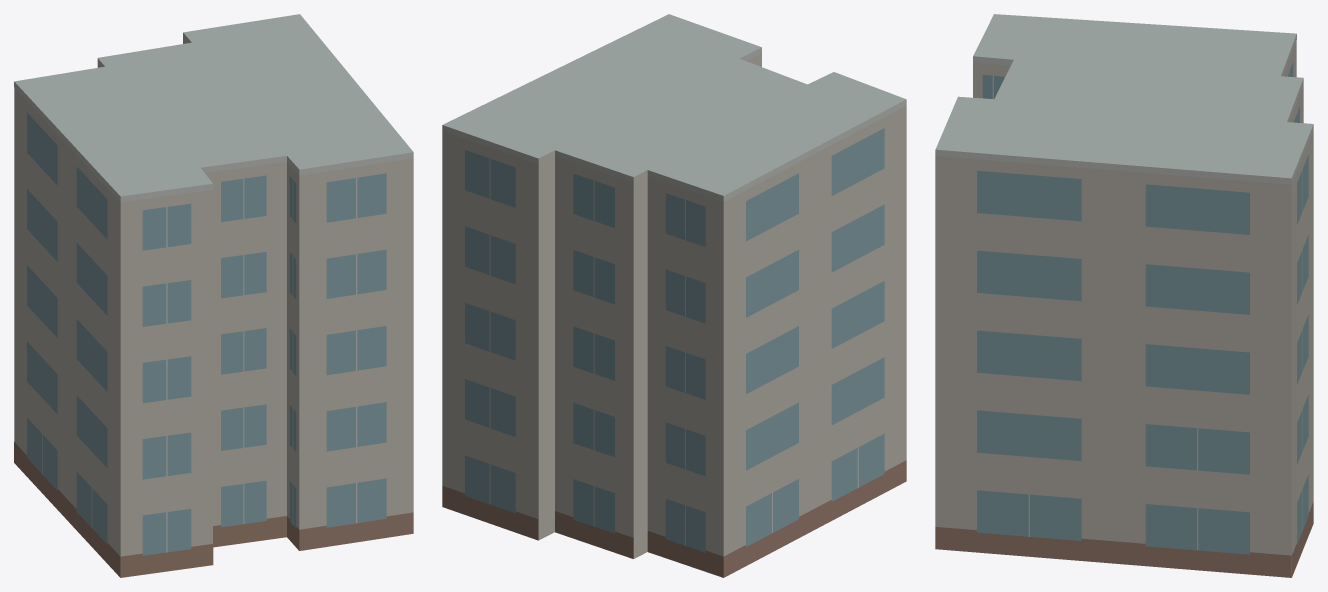
Rendered from survey-upis-32815432.glb.
The picture shows the model from 3 angles, left to right: view 1: azimuth 30°, elevation 25°; view 2: azimuth 150°, elevation 25°; view 3: azimuth 270°, elevation 25°; orthographic projection. The views are drawn at different scales.
Parts seen in each view (by area): view 1: survey-upis-32815432.tmp; view 2: survey-upis-32815432.tmp; view 3: survey-upis-32815432.tmp.
Boxes of the visible parts, left/top/right/bottom form: survey-upis-32815432.tmp: left=14, top=14, right=413, bottom=577; survey-upis-32815432.tmp: left=442, top=14, right=906, bottom=577; survey-upis-32815432.tmp: left=935, top=14, right=1313, bottom=577.
Size of the model in its own units: 13.91 by 15.75 by 13.52.
